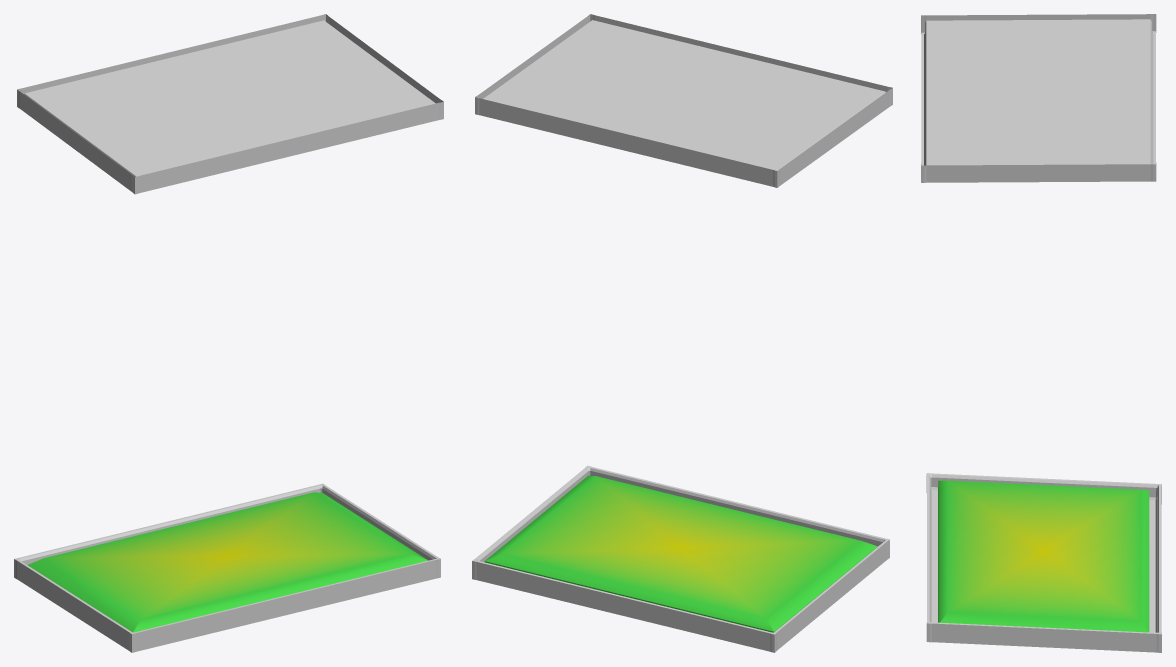
File: seperatedfloorGRP.fbx
The picture shows the model from 3 angles, left to right: view 1: azimuth 30°, elevation 25°; view 2: azimuth 150°, elevation 25°; view 3: azimuth 270°, elevation 25°; orthographic projection. The views are drawn at different scales.
Parts seen in each view (by area): view 1: ceiling1, floor_segments, floor_plane; view 2: ceiling1, floor_segments, floor_plane; view 3: ceiling1, floor_segments, floor_plane.
Boxes of the visible parts, <box> form: ceiling1: <box>17,14,443,194</box>; floor_segments: <box>27,492,427,632</box>; floor_plane: <box>14,483,440,652</box>; ceiling1: <box>475,14,892,187</box>; floor_segments: <box>484,475,877,632</box>; floor_plane: <box>472,465,889,652</box>; ceiling1: <box>921,14,1156,182</box>; floor_segments: <box>938,480,1149,632</box>; floor_plane: <box>926,473,1161,652</box>.
Bounding box in the file's own units: 11.03 × 16.71 × 7.47.
